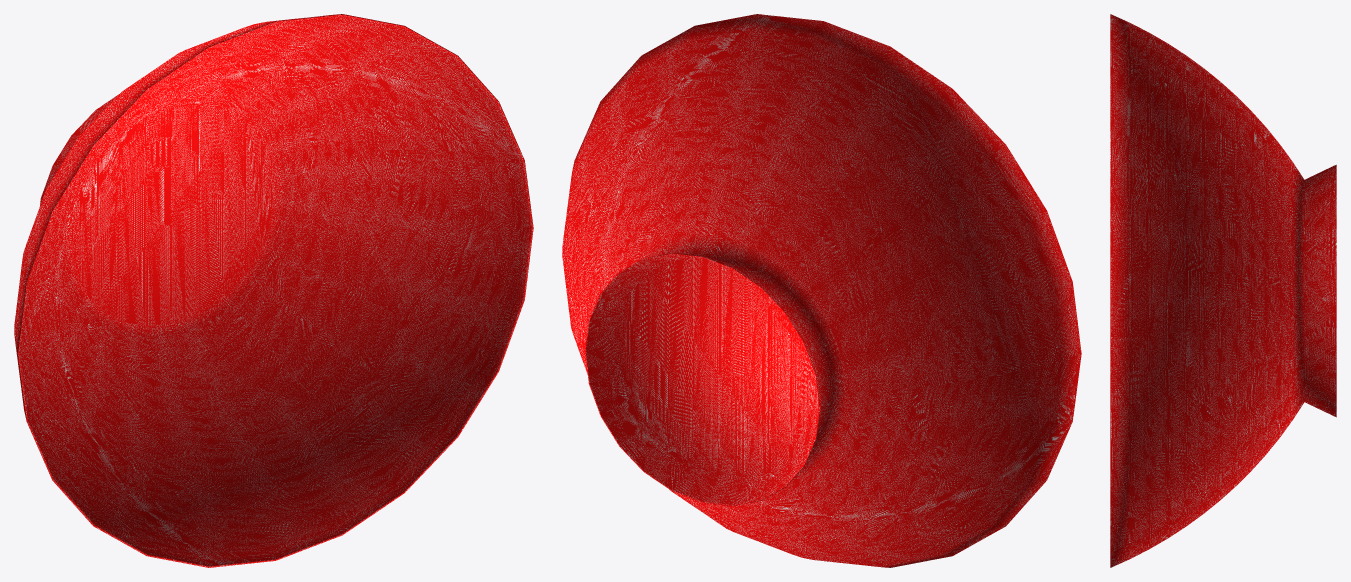
The model's file is model_align.obj.
3 views of the same model, side by side, from view 1: azimuth 30°, elevation 25°; view 2: azimuth 150°, elevation 25°; view 3: azimuth 270°, elevation 25° (orthographic). The views are drawn at different scales.
Visible parts, largest first — view 1: mesh1_mesh1-geometry; view 2: mesh1_mesh1-geometry; view 3: mesh1_mesh1-geometry.
Boxes of the visible parts, x1,y1,x2,y2 form: mesh1_mesh1-geometry: (14,14,533,567); mesh1_mesh1-geometry: (562,14,1081,567); mesh1_mesh1-geometry: (1110,14,1336,567).
Bounding box in the file's own units: 0.1554 × 0.1554 × 0.0632.
